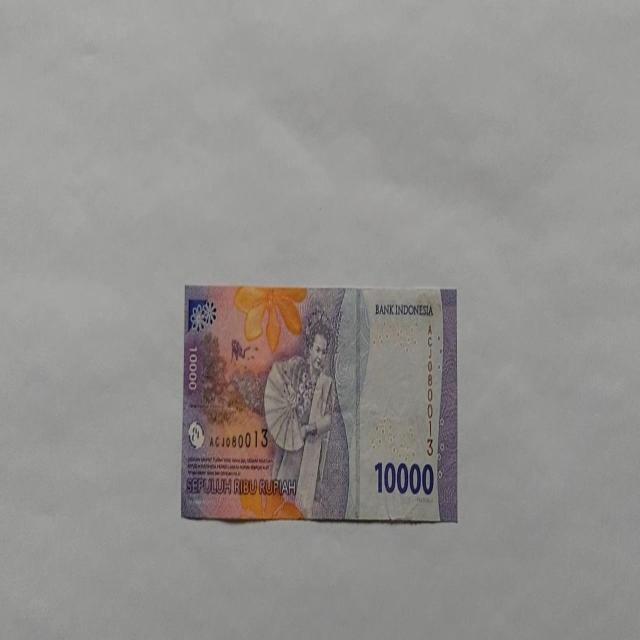Kertas: (180, 282, 458, 524), (374, 459, 434, 497)
